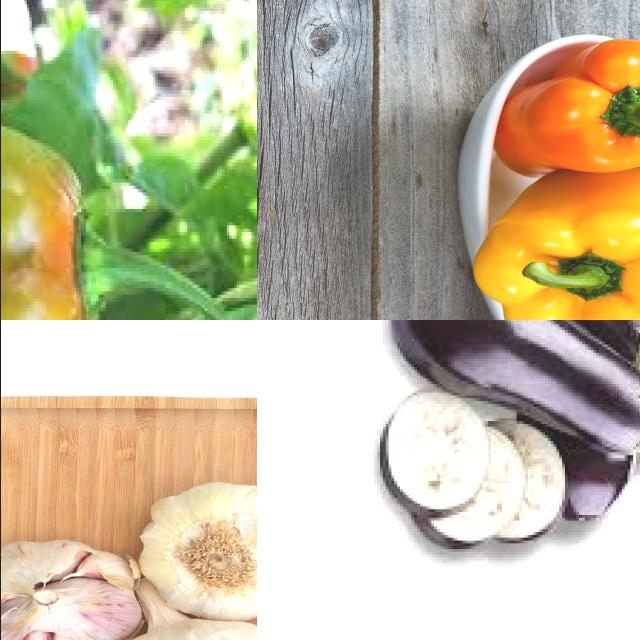bell_pepper: (462, 177, 640, 321), (1, 110, 112, 321), (490, 35, 640, 175)
eggplant: (395, 321, 640, 447)
garlic: (134, 480, 257, 623), (1, 537, 142, 640)
